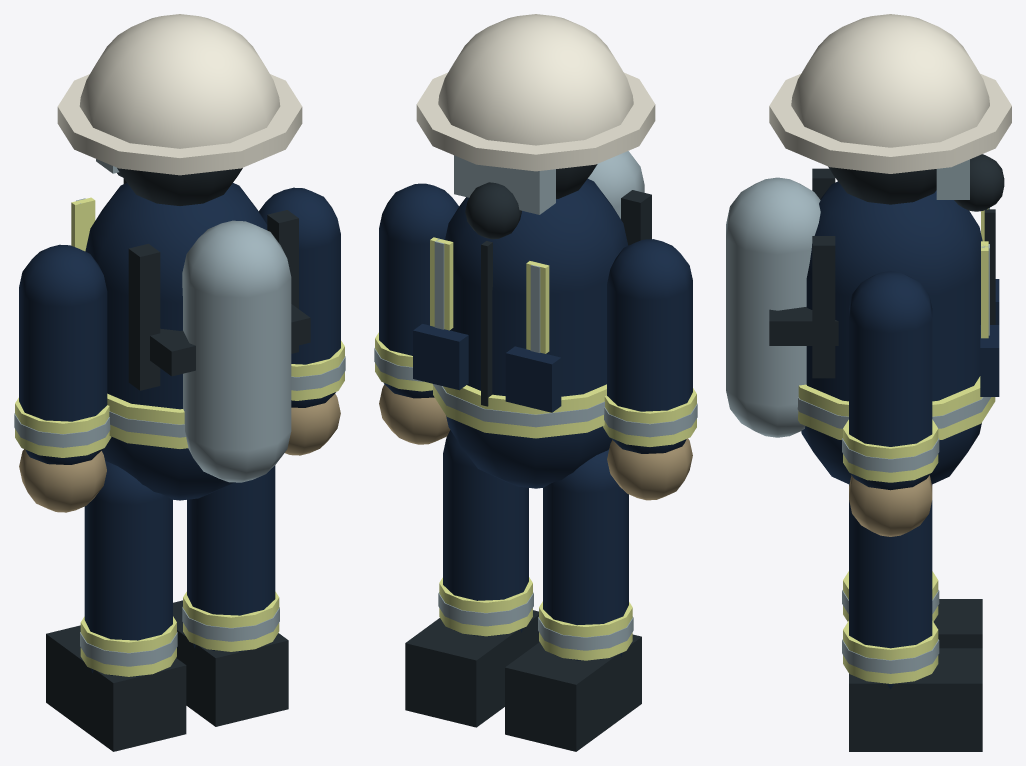
Rendered from geo-crew.glb.
3 views of the same model, side by side, from view 1: azimuth 30°, elevation 25°; view 2: azimuth 150°, elevation 25°; view 3: azimuth 270°, elevation 25° (orthographic). The views are drawn at different scales.
Size of the model in its own units: 0.872 by 1.81 by 0.6836.
